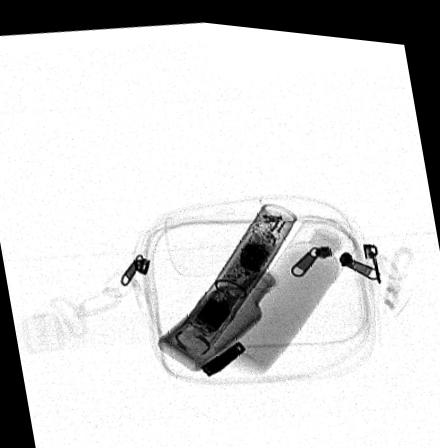Baton: (174, 195, 298, 352)
